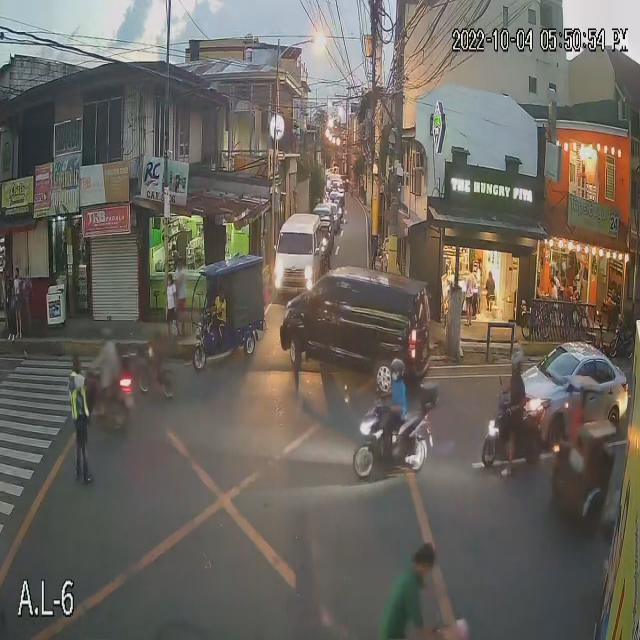helmet: (388, 358, 412, 383), (507, 352, 529, 374), (96, 325, 118, 346)
motorcycle: (352, 410, 435, 482), (398, 420, 478, 484), (68, 374, 144, 432)
rider: (92, 343, 120, 402), (436, 384, 462, 444), (388, 383, 416, 437)
